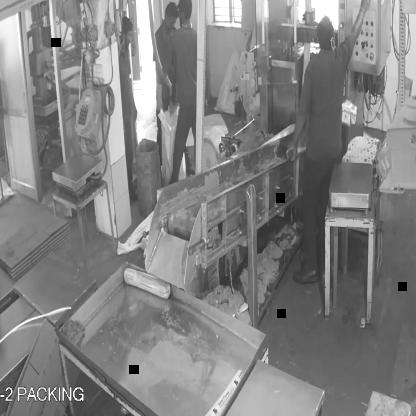no_glove: (282, 92, 311, 162), (346, 0, 373, 46)
